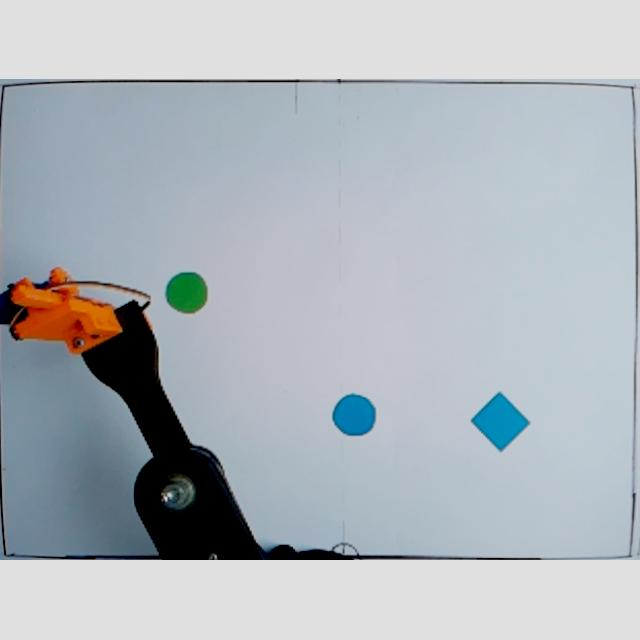blueCircle: (330, 391, 380, 443)
blueSquare: (471, 393, 533, 457)
greenCircle: (164, 270, 210, 318)
